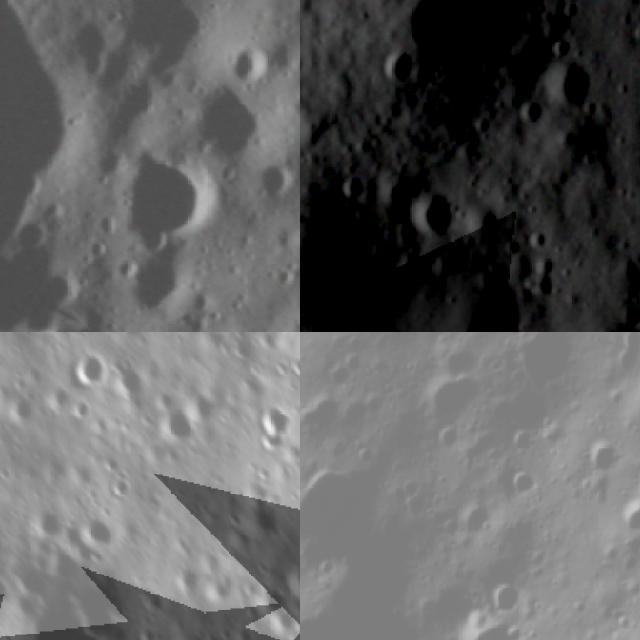crater: (300, 184, 427, 332), (87, 133, 225, 265), (300, 436, 411, 571), (162, 68, 282, 180), (93, 228, 202, 332), (384, 0, 524, 80), (9, 557, 120, 640), (491, 332, 580, 409), (46, 7, 126, 90), (414, 356, 488, 443), (438, 271, 536, 332), (534, 49, 606, 116), (369, 156, 435, 224), (408, 178, 473, 246), (215, 33, 280, 96), (4, 203, 66, 265), (441, 600, 535, 640), (476, 563, 533, 625), (372, 37, 428, 94), (448, 492, 502, 550), (243, 158, 297, 213), (577, 426, 626, 485), (462, 195, 513, 250), (248, 398, 296, 452), (31, 265, 82, 312), (64, 340, 109, 391), (159, 394, 202, 444), (496, 466, 546, 508), (114, 354, 153, 406), (513, 94, 555, 133), (615, 494, 640, 551), (279, 545, 300, 605)
